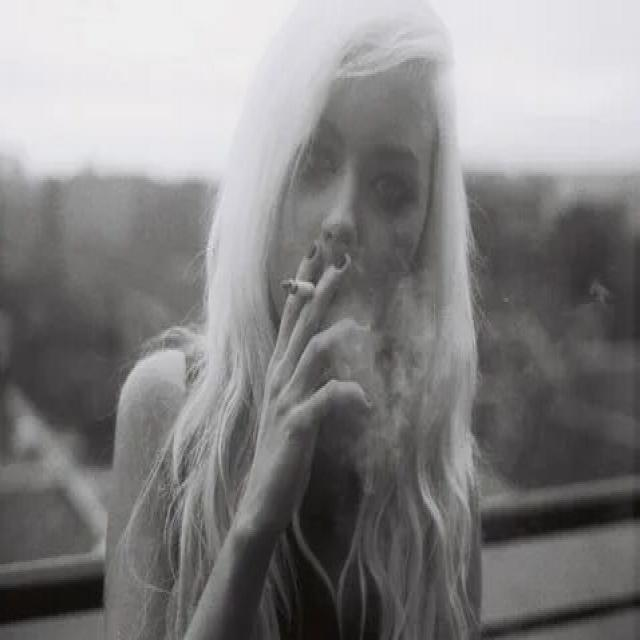smoke: (280, 272, 321, 306)
